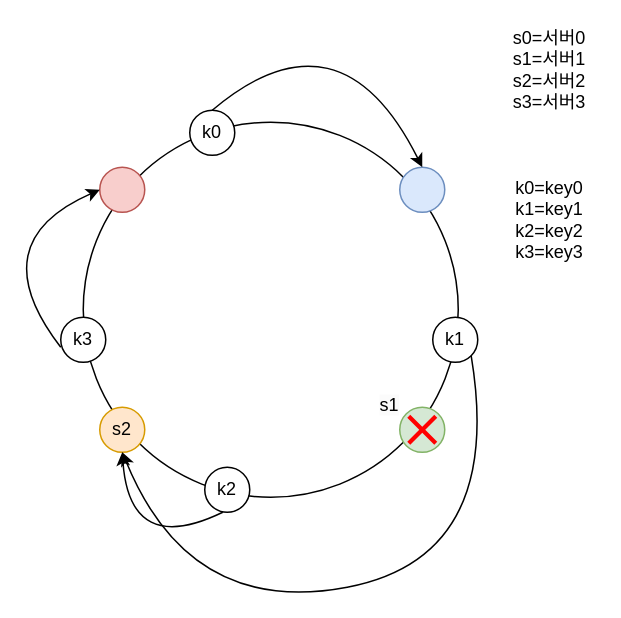
The diagram is 621 pixels wide and 618 high, and some of its shapes have lost their labels. Each missing label, with the centre of its shape:
"s0" goes at point 421,189.
"s3" goes at point 121,189.
